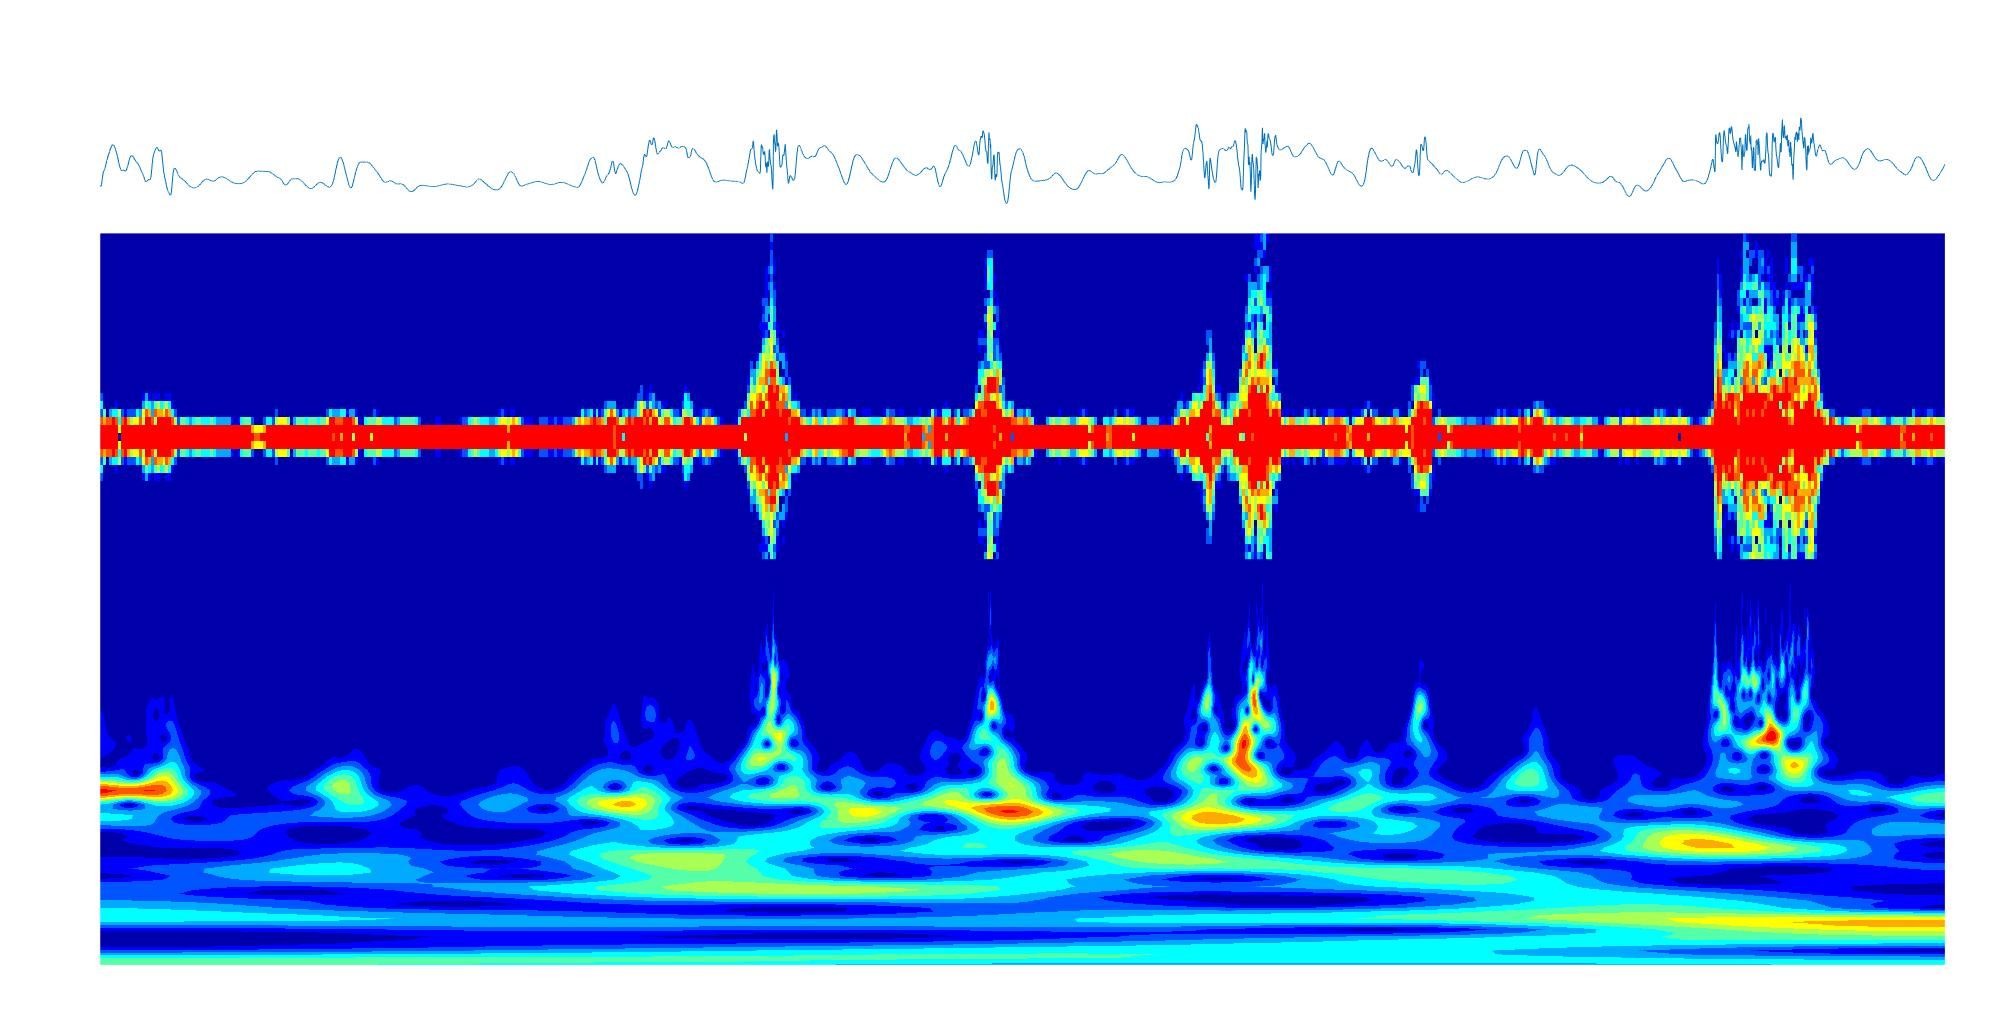TURBULENT: (1706, 232, 1831, 964), (740, 235, 794, 964), (966, 233, 1012, 964), (1240, 232, 1278, 963)
